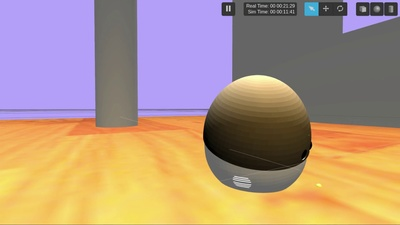mira_robot: (204, 74, 314, 193)
